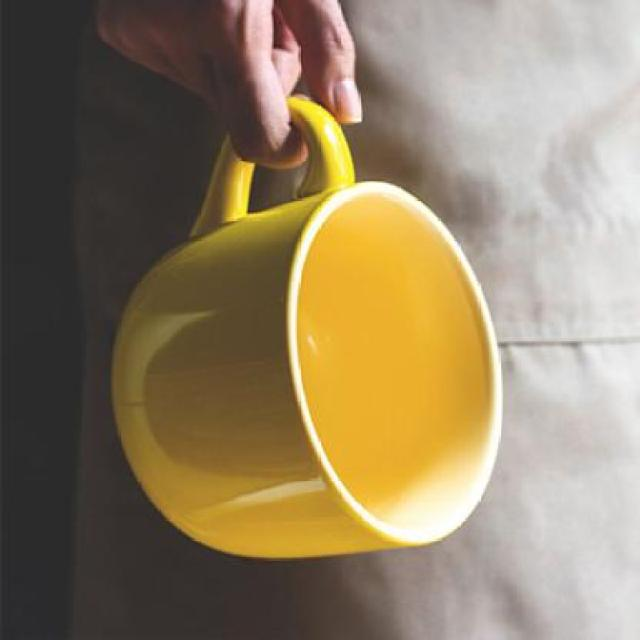cup: (98, 90, 514, 568)
